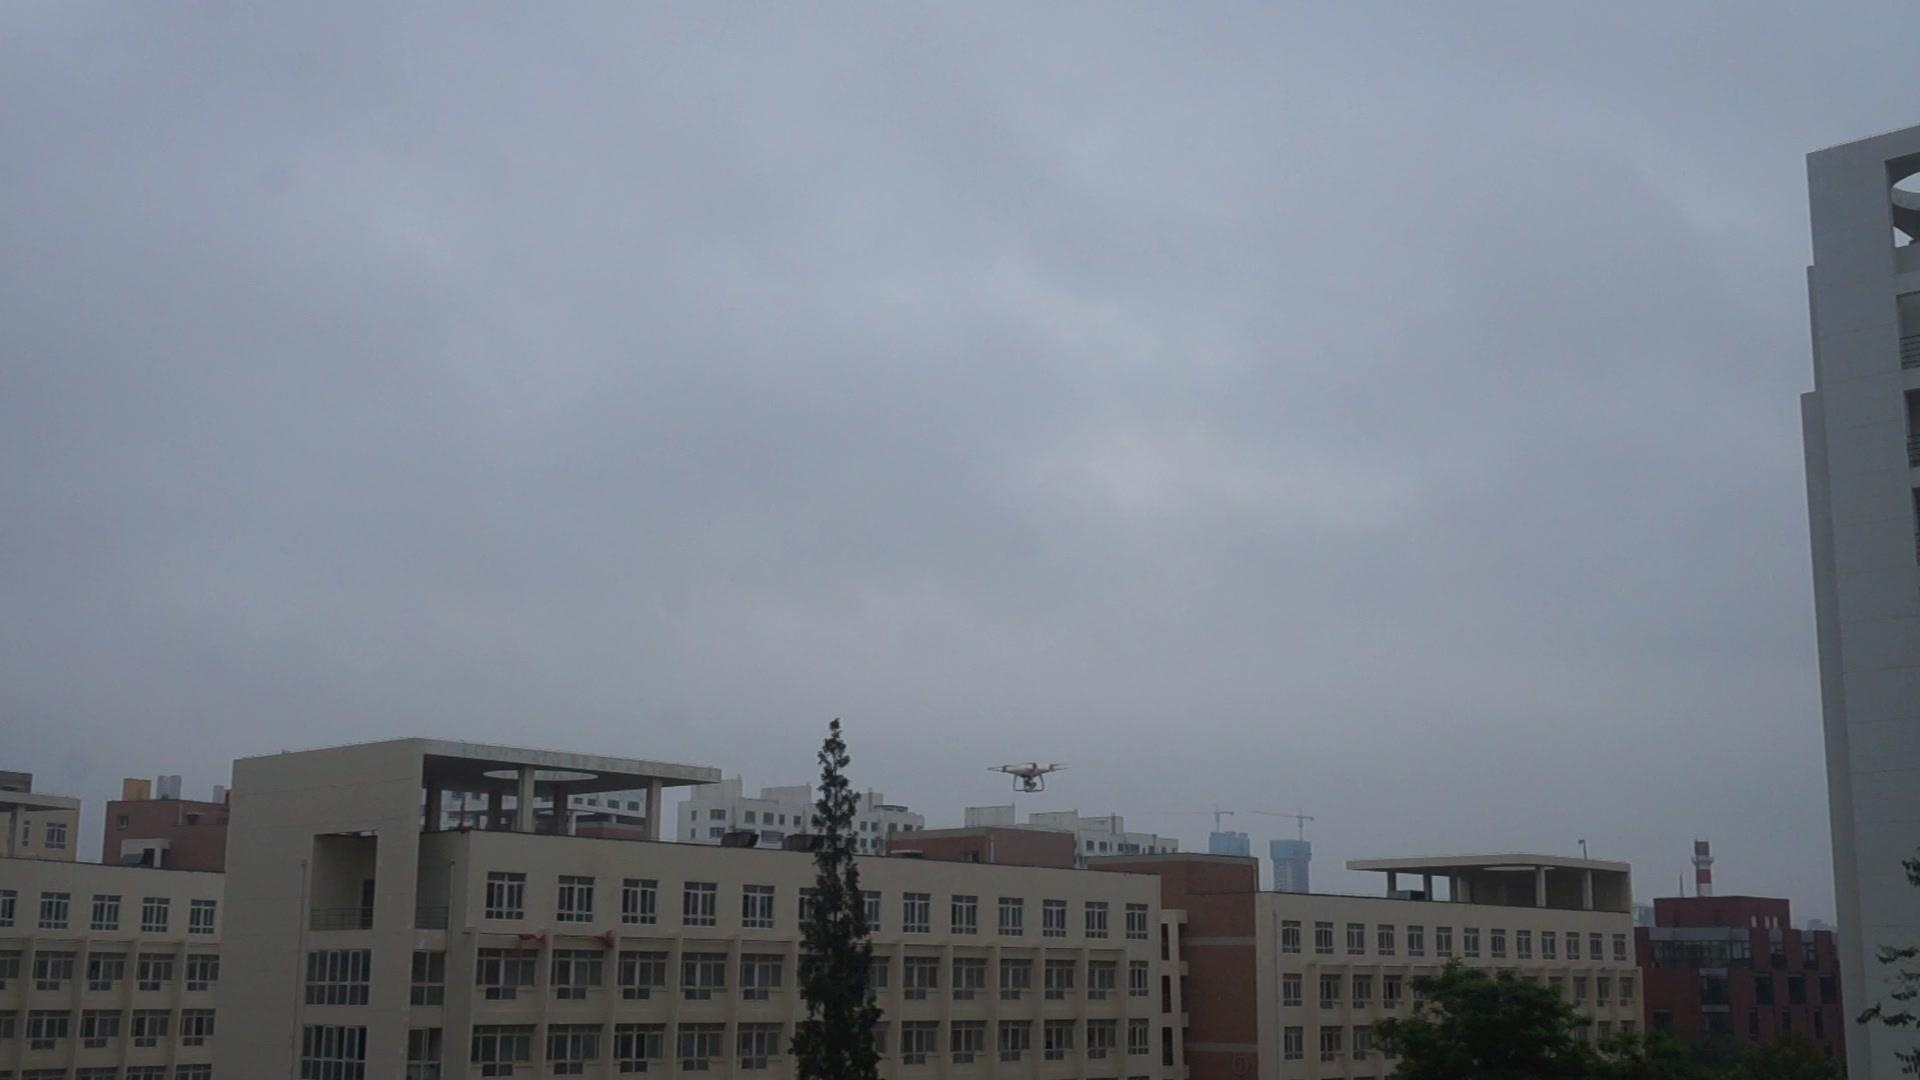UAV: (986, 764, 1071, 793)
